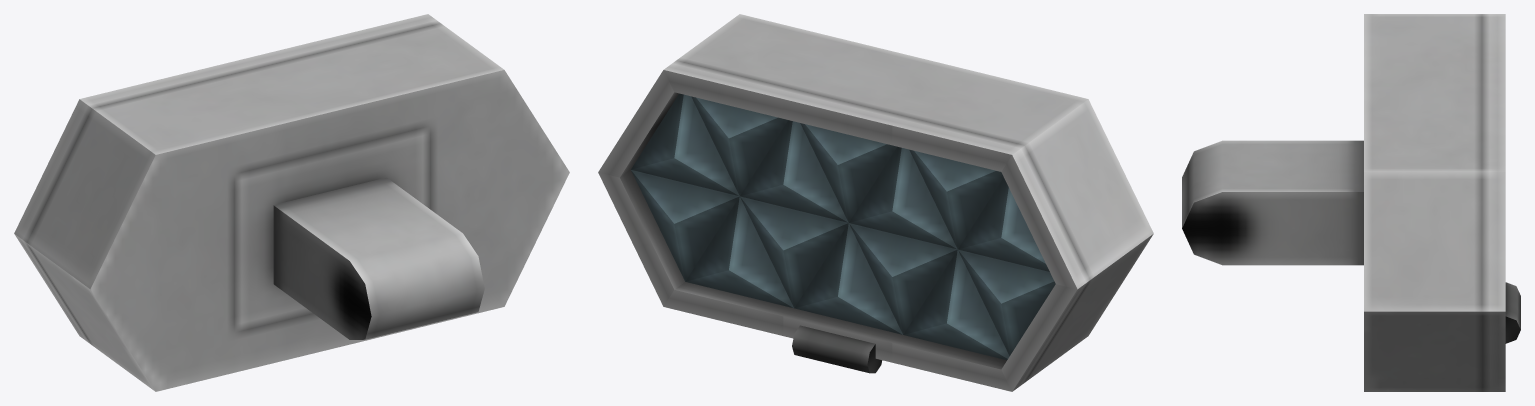
File: lrbody.obj
The picture shows the model from 3 angles, left to right: view 1: azimuth 30°, elevation 25°; view 2: azimuth 150°, elevation 25°; view 3: azimuth 270°, elevation 25°; orthographic projection. The views are drawn at different scales.
Visible parts, largest first — view 1: 1; view 2: 1; view 3: 1.
Boxes of the visible parts, <box> form: 1: <box>14,14,569,391</box>; 1: <box>598,14,1153,391</box>; 1: <box>1182,14,1520,391</box>.
Bounding box in the file's own units: 0.3175 × 0.1594 × 0.2094.
Materials: 1 (1 with a texture image).
